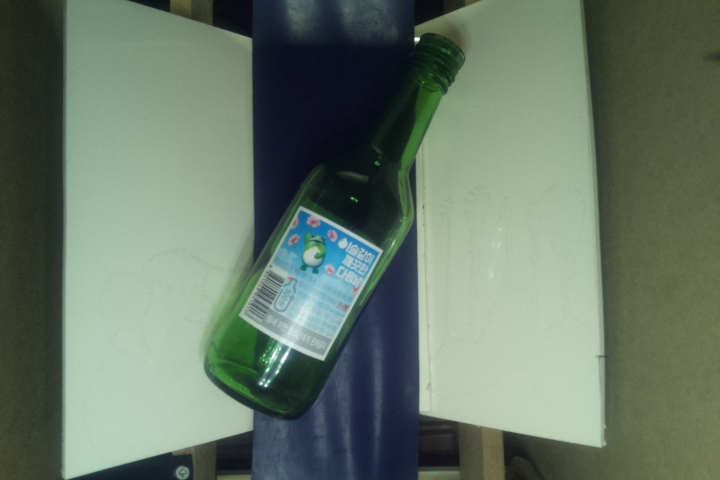soju: (200, 33, 468, 421)
